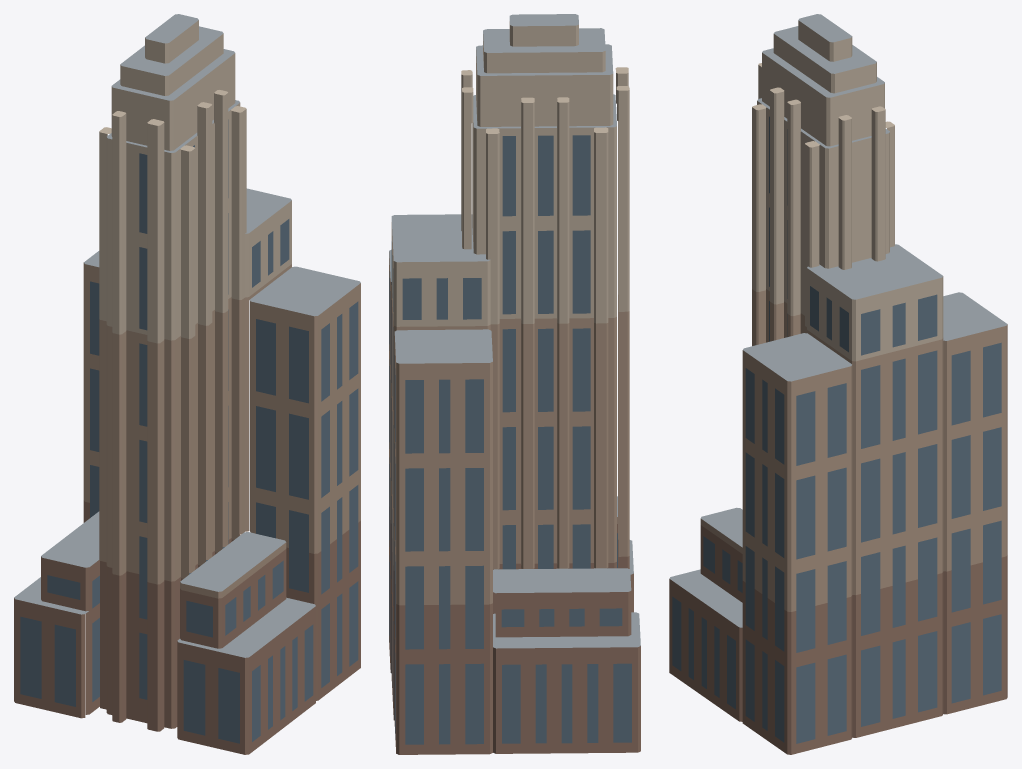
3 views of the same model, side by side, from view 1: azimuth 30°, elevation 25°; view 2: azimuth 150°, elevation 25°; view 3: azimuth 270°, elevation 25° (orthographic). The views are drawn at different scales.
Parts seen in each view (by area): view 1: seattle-tower; view 2: seattle-tower; view 3: seattle-tower.
Part boxes in pixels (x1,y1,x2,y2): seattle-tower: [14, 14, 360, 754]; seattle-tower: [389, 14, 640, 754]; seattle-tower: [669, 14, 1007, 754].
Bounding box in the file's own units: 46.29 × 99.5 × 47.19.
